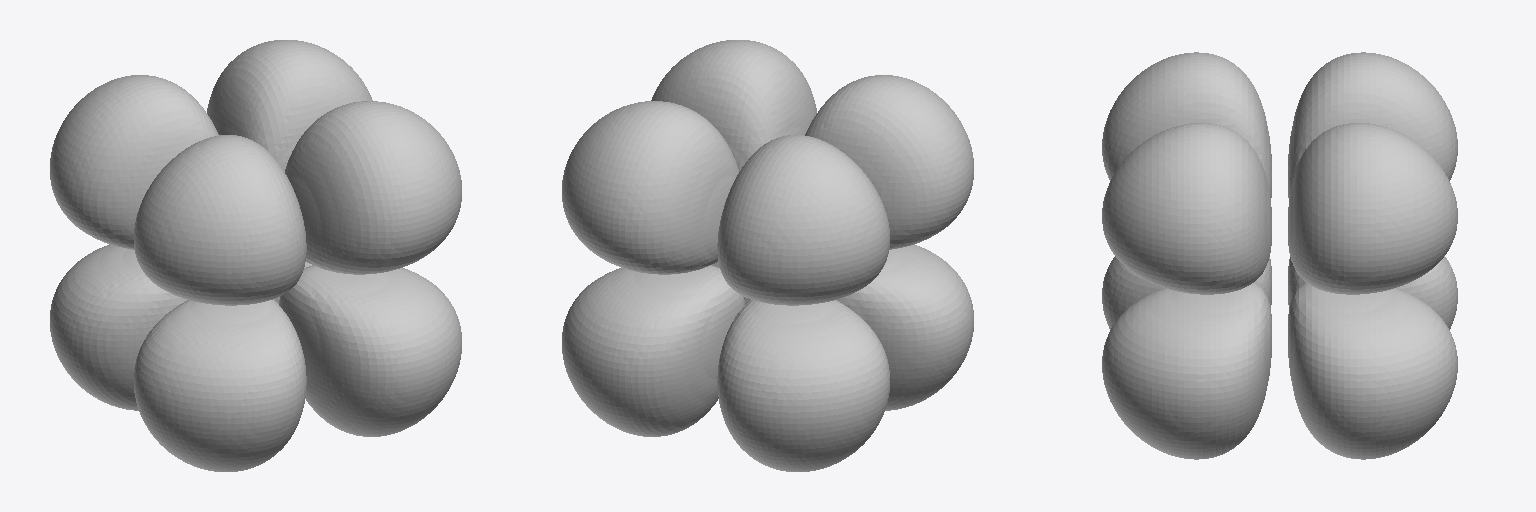
The model's file is orb_n=4_ l=3 _m=-2.obj.
3 views of the same model, side by side, from view 1: azimuth 30°, elevation 25°; view 2: azimuth 150°, elevation 25°; view 3: azimuth 270°, elevation 25° (orthographic).
Visible parts, largest first — view 1: orb_n=4__l=3__m=-2; view 2: orb_n=4__l=3__m=-2; view 3: orb_n=4__l=3__m=-2.
Part boxes in pixels (bbox=[...]): orb_n=4__l=3__m=-2: bbox=[50, 40, 461, 471]; orb_n=4__l=3__m=-2: bbox=[562, 40, 973, 471]; orb_n=4__l=3__m=-2: bbox=[1102, 52, 1457, 459].
Size of the model in its own units: 51.96 by 51.96 by 51.96.